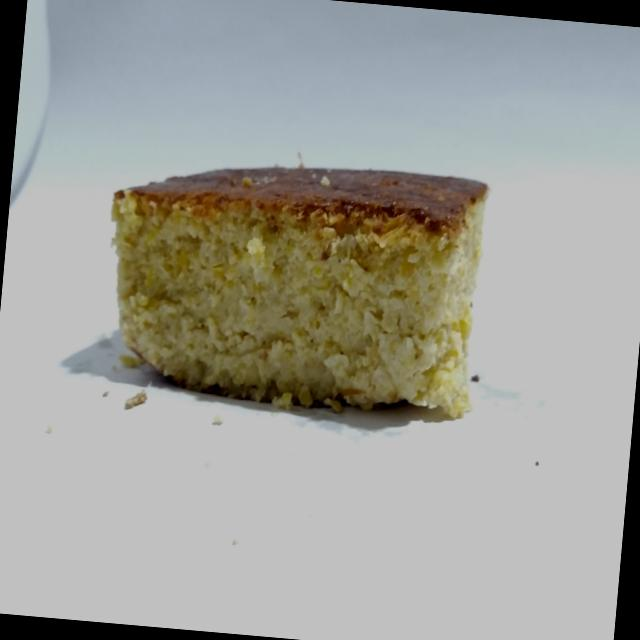Chipa_Guazu: (82, 140, 510, 436)
